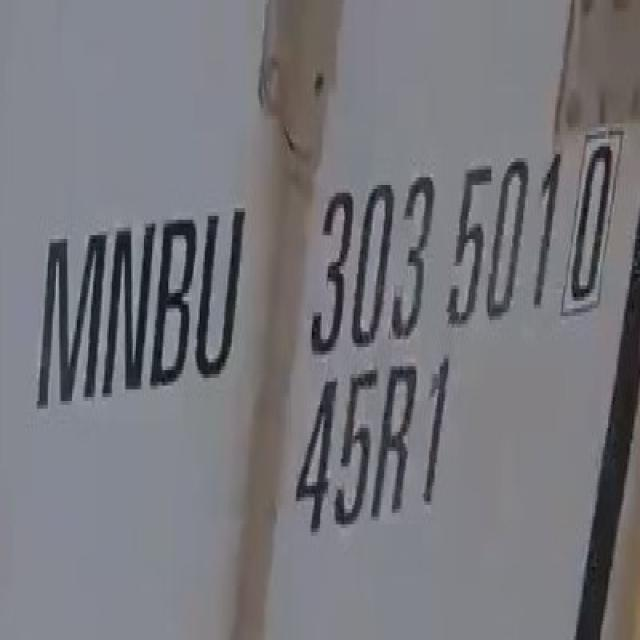dv: (565, 122, 628, 326)
owner: (22, 190, 247, 416)
serial: (302, 132, 564, 358)
size: (290, 356, 466, 540)
